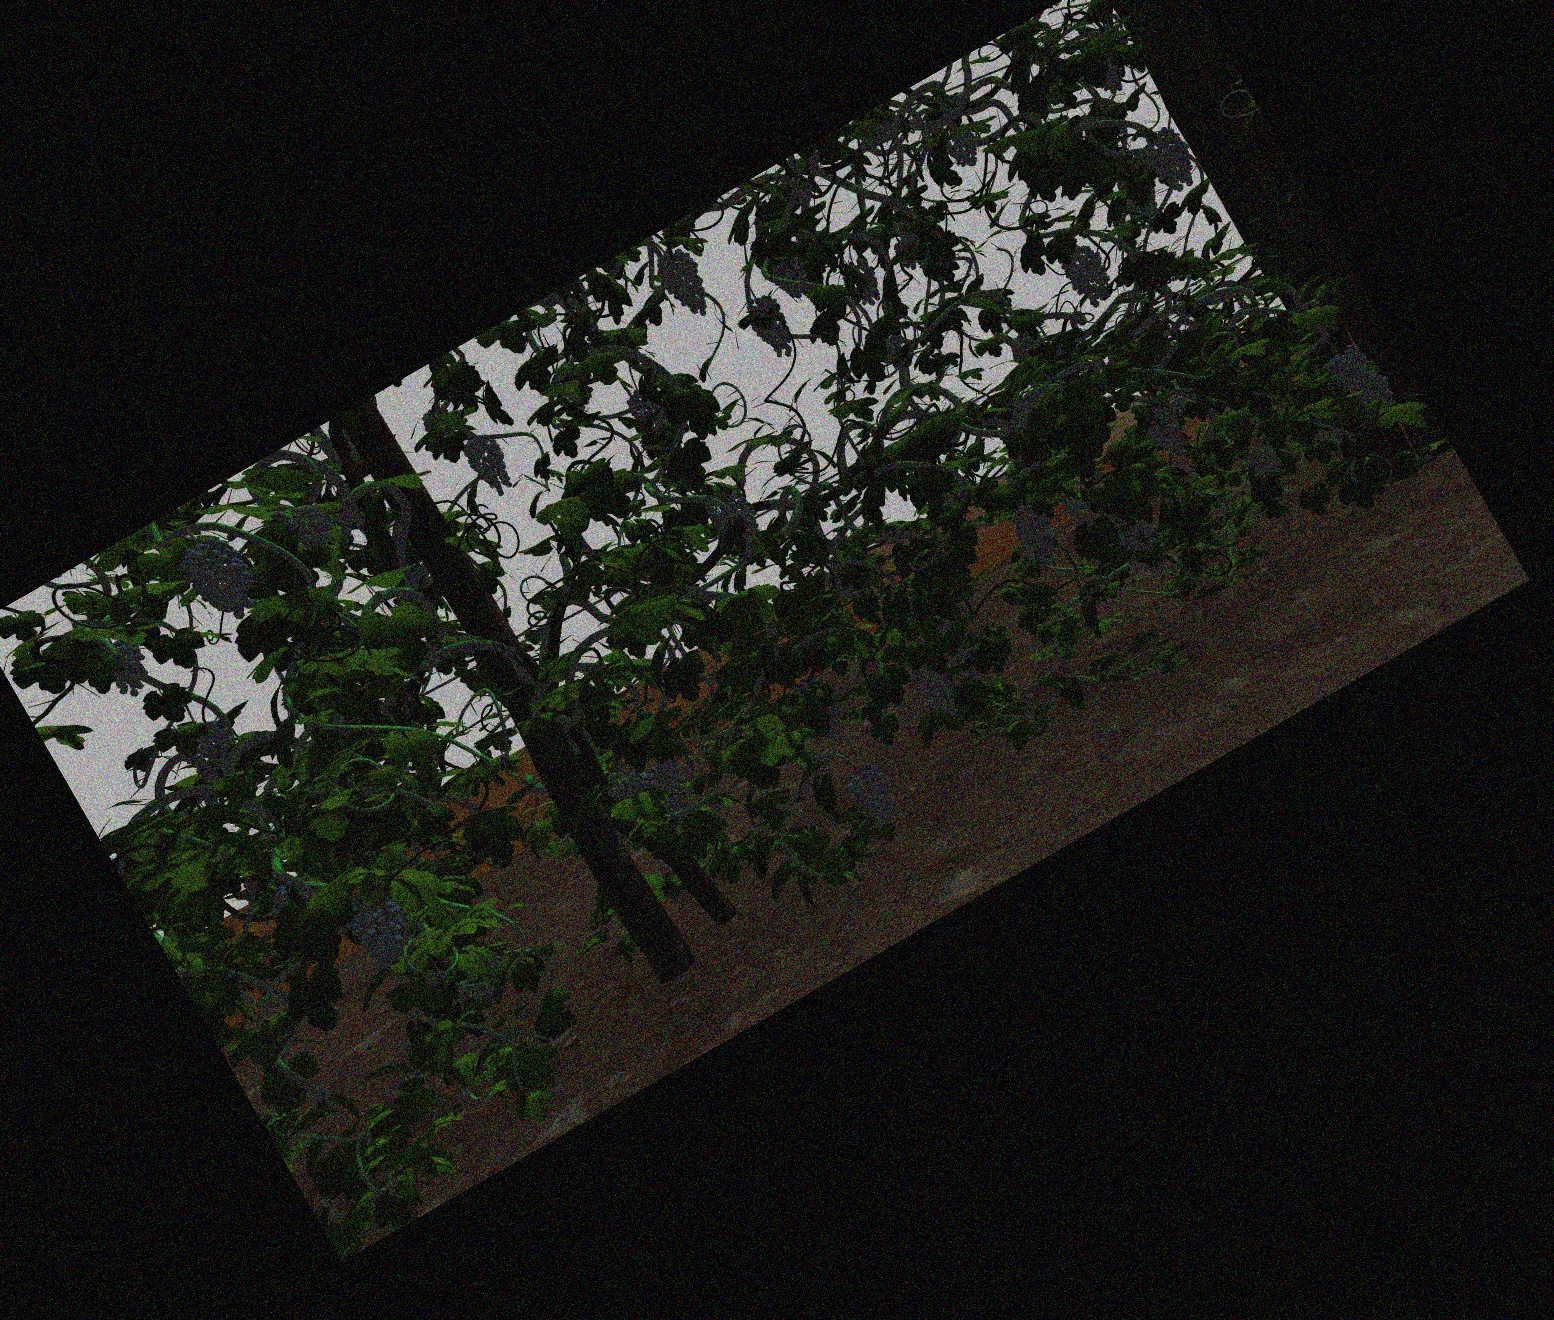grape: (194, 536, 247, 619), (360, 904, 412, 966), (183, 724, 232, 779), (666, 251, 704, 316), (1149, 131, 1191, 189), (852, 767, 893, 825), (753, 299, 789, 359), (914, 657, 950, 718), (1016, 505, 1053, 562), (471, 436, 505, 495), (1070, 247, 1105, 304), (107, 640, 144, 693), (651, 765, 687, 816), (1333, 350, 1369, 399), (719, 495, 755, 542), (1149, 409, 1184, 457), (293, 508, 327, 550), (775, 259, 808, 299), (1362, 376, 1393, 411), (607, 770, 641, 801), (1122, 524, 1157, 553), (1248, 449, 1278, 478)
